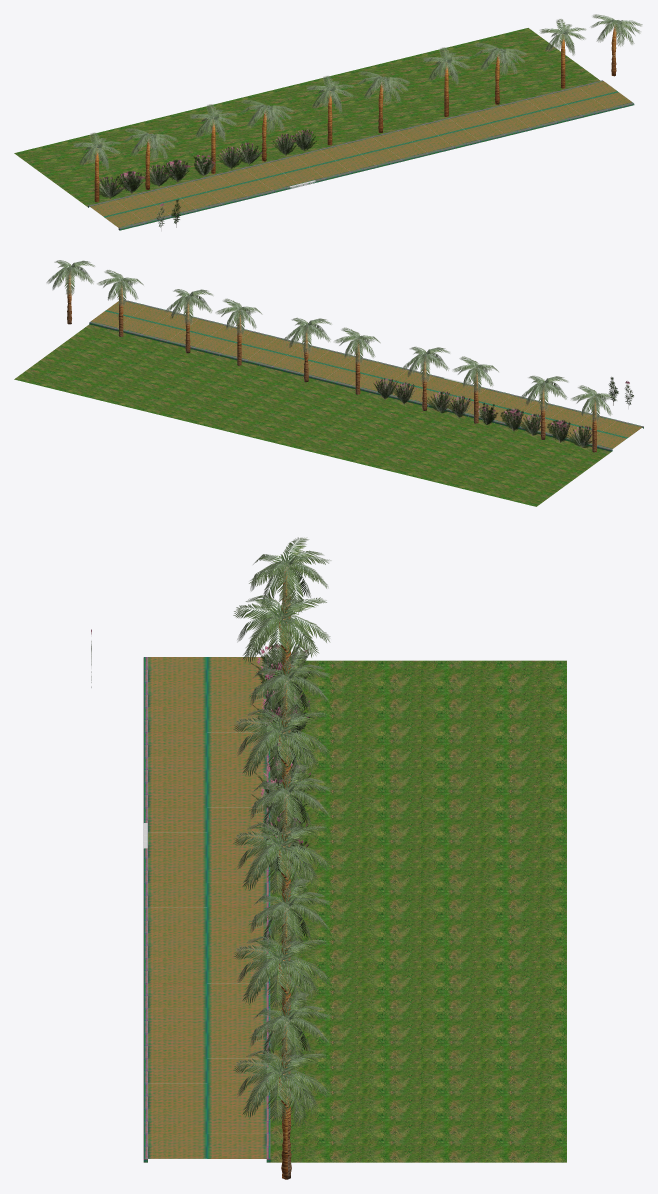
The picture shows the model from 3 angles, top to bottom: view 1: azimuth 30°, elevation 25°; view 2: azimuth 150°, elevation 25°; view 3: azimuth 270°, elevation 25°; orthographic projection. The views are drawn at different scales.
Parts seen in each view (by area): view 1: Plane.015, env_tree_palm_A.009, env_tree_palm_A.007, env_tree_palm_A.003, env_tree_palm_A.005, env_tree_palm_A.001, env_tree_palm_A.004, env_tree_palm_A, env_tree_palm_A.002, env_tree_palm_A.006, env_tree_palm_A.008, Plane.009 (+39 smaller); view 2: Plane.015, env_tree_palm_A.005, env_tree_palm_A.007, env_tree_palm_A.009, env_tree_palm_A.003, env_tree_palm_A.001, env_tree_palm_A.004, env_tree_palm_A.008, env_tree_palm_A.006, env_tree_palm_A.002, env_tree_palm_A, Plane.165 (+31 smaller); view 3: Plane.015, env_tree_palm_A.009, env_tree_palm_A.007, env_tree_palm_A.005, env_tree_palm_A.001, env_tree_palm_A.003, env_tree_palm_A.008, env_tree_palm_A.006, env_tree_palm_A.004, env_tree_palm_A, env_tree_palm_A.002, Plane.170 (+39 smaller).
Part boxes in pixels (x1,y1,x2,y2): Plane.015: (14, 28, 600, 206); env_tree_palm_A.009: (590, 14, 642, 76); env_tree_palm_A.007: (473, 43, 525, 104); env_tree_palm_A.003: (240, 99, 292, 161); env_tree_palm_A.005: (357, 71, 409, 132); env_tree_palm_A.001: (124, 128, 176, 189); env_tree_palm_A.004: (306, 75, 353, 145); env_tree_palm_A: (73, 132, 120, 202); env_tree_palm_A.002: (190, 104, 236, 173); env_tree_palm_A.006: (423, 47, 469, 116); env_tree_palm_A.008: (539, 18, 586, 88); Plane.009: (207, 186, 248, 205); Plane.015: (14, 324, 611, 506); env_tree_palm_A.005: (283, 317, 332, 382); env_tree_palm_A.007: (165, 289, 213, 353); env_tree_palm_A.009: (46, 260, 95, 324); env_tree_palm_A.003: (402, 346, 450, 410); env_tree_palm_A.001: (520, 375, 568, 439); env_tree_palm_A.004: (334, 327, 380, 394); env_tree_palm_A.008: (97, 270, 143, 336); env_tree_palm_A.006: (215, 298, 262, 365); env_tree_palm_A.002: (452, 356, 499, 423); env_tree_palm_A: (571, 385, 617, 452); Plane.165: (141, 323, 183, 343); Plane.015: (270, 660, 566, 1162); env_tree_palm_A.009: (233, 1050, 330, 1179); env_tree_palm_A.007: (233, 936, 330, 1062); env_tree_palm_A.005: (233, 823, 330, 943); env_tree_palm_A.001: (233, 595, 330, 699); env_tree_palm_A.003: (233, 709, 330, 813); env_tree_palm_A.008: (249, 992, 331, 1128); env_tree_palm_A.006: (248, 878, 331, 1009); env_tree_palm_A.004: (248, 764, 331, 895); env_tree_palm_A: (249, 537, 331, 651); env_tree_palm_A.002: (249, 651, 331, 761); Plane.170: (143, 1133, 207, 1162).
Bounding box in the file's own units: 43.7 × 4.6 × 16.04.
Materials: 4 (4 with a texture image).
